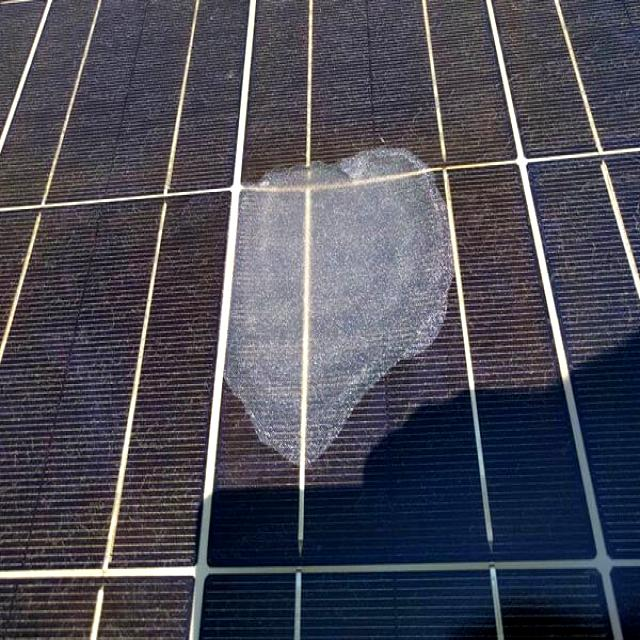shadow: (223, 142, 455, 464)
